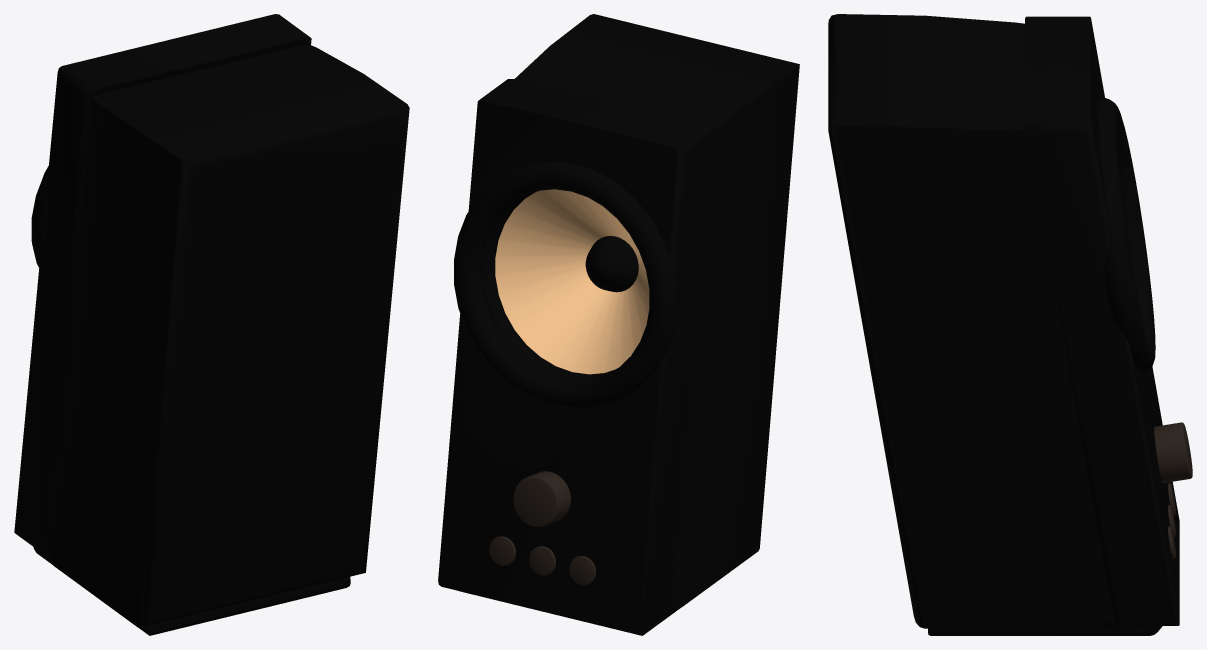
Rendered from glosniki_2.fbx.
The picture shows the model from 3 angles, left to right: view 1: azimuth 30°, elevation 25°; view 2: azimuth 150°, elevation 25°; view 3: azimuth 270°, elevation 25°; orthographic projection. The views are drawn at different scales.
Visible parts, largest first — view 1: Cylinder.002; view 2: Cylinder.002; view 3: Cylinder.002.
Boxes of the visible parts, x1,y1,x2,y2 form: Cylinder.002: [14, 14, 409, 635]; Cylinder.002: [438, 14, 799, 635]; Cylinder.002: [828, 14, 1192, 635].
Size of the model in its own units: 66.16 by 135 by 85.99.
